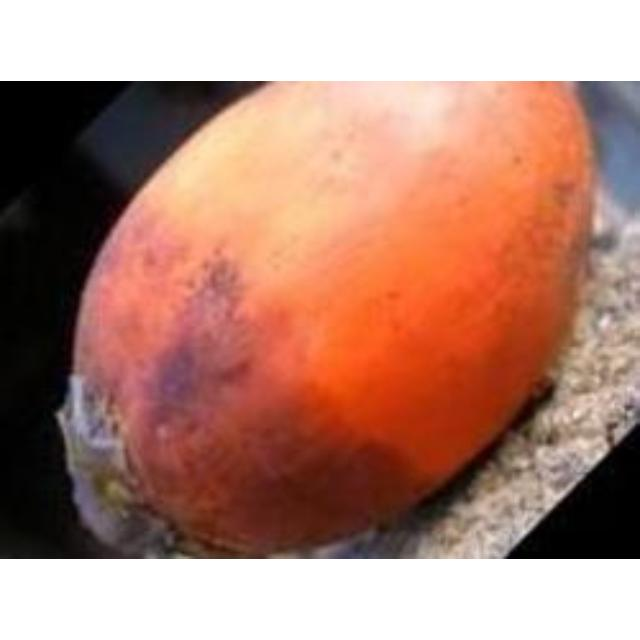good: (56, 81, 599, 557)
